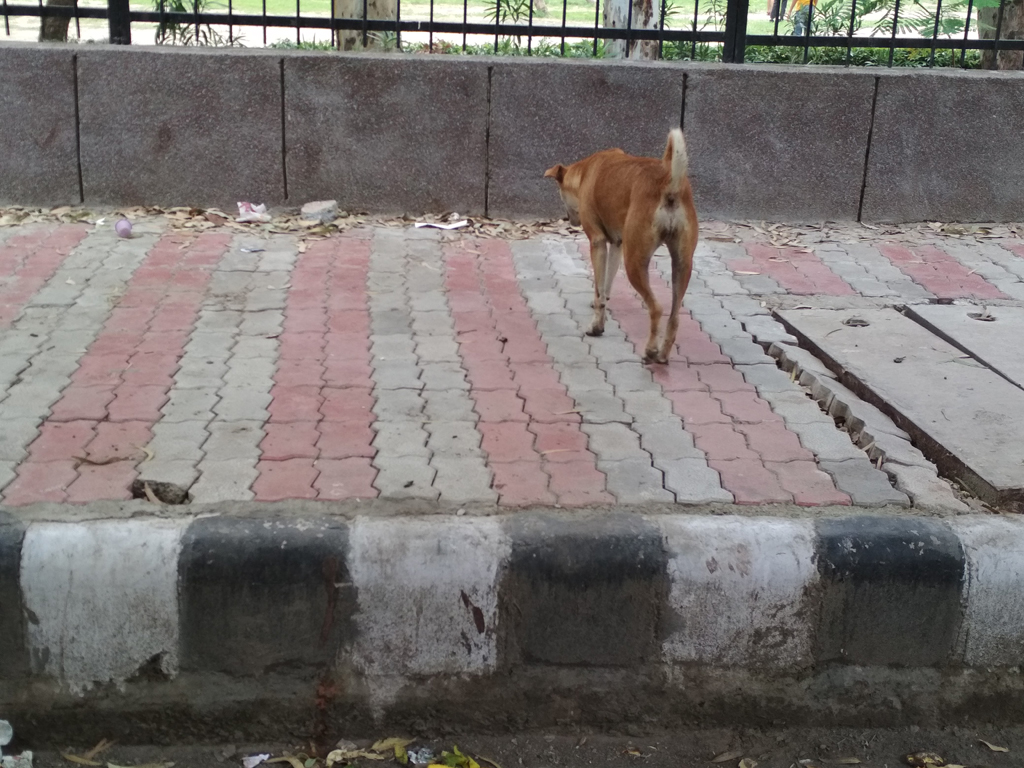dog: (542, 128, 698, 364)
